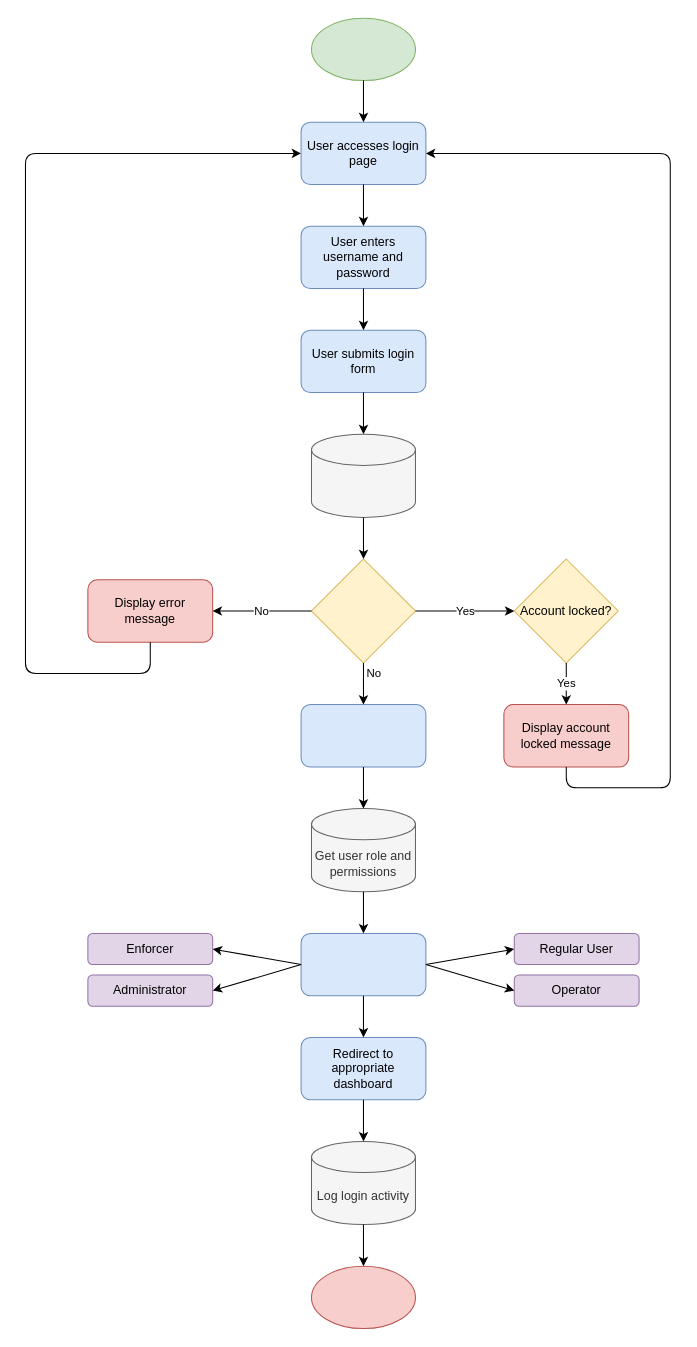
Some shapes in this 697 by 1347 pixel diagram are drawn without their labels. Each missing label, with the centre of its shape:
Check credentials in database: the point at 362,475
Create user session: the point at 363,735
Credentials Valid?: the point at 362,610
Determine role-specific dashboard: the point at 363,964
End: the point at 362,1297
Start: the point at 362,49
